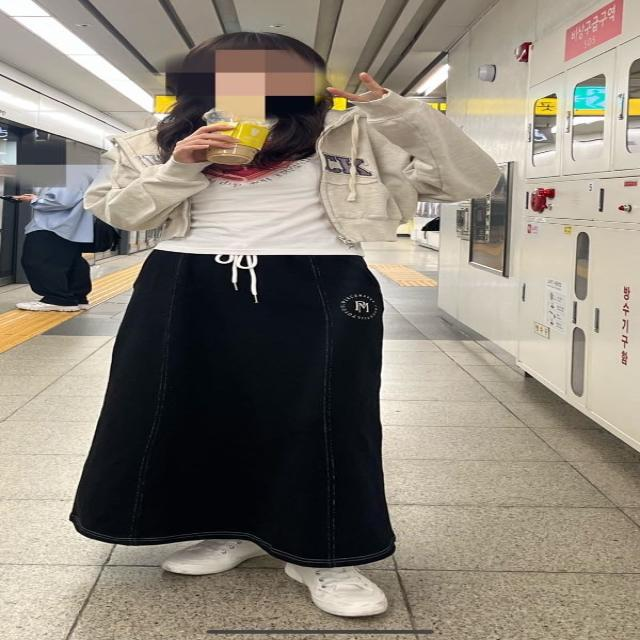skirt: (68, 244, 403, 562)
zipup: (79, 88, 501, 243)
